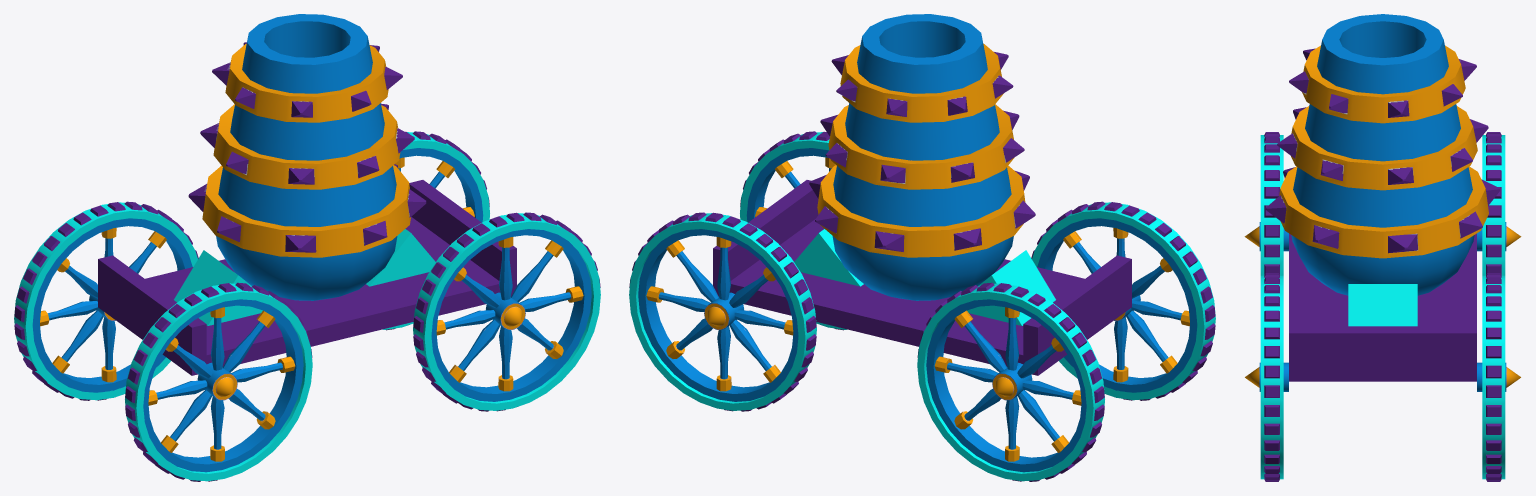
The model's file is Gun03.fbx.
3 renders of one model, left to right at view 1: azimuth 30°, elevation 25°; view 2: azimuth 150°, elevation 25°; view 3: azimuth 270°, elevation 25°, orthographic.
Visible parts, largest first — view 1: Cylinder.033, Cylinder.035, Cylinder.019, Plane.008, Plane.009, Cylinder.038; view 2: Cylinder.033, Cylinder.035, Cylinder.019, Plane.008, Plane.009, Cylinder.038; view 3: Cylinder.033, Cylinder.019, Plane.008, Plane.009, Cylinder.035, Cylinder.038.
Part boxes in pixels (x1,y1,x2,y2): Cylinder.033: (188, 14, 426, 300); Cylinder.035: (14, 201, 312, 481); Cylinder.019: (382, 131, 600, 411); Plane.008: (98, 217, 516, 375); Plane.009: (98, 180, 516, 357); Cylinder.038: (174, 229, 435, 325); Cylinder.033: (809, 14, 1035, 300); Cylinder.035: (917, 201, 1215, 481); Cylinder.019: (629, 131, 847, 411); Plane.008: (713, 219, 1131, 375); Plane.009: (713, 180, 1131, 357); Cylinder.038: (794, 229, 1055, 325); Cylinder.033: (1266, 14, 1499, 295); Cylinder.019: (1245, 273, 1520, 481); Plane.008: (1289, 233, 1476, 381); Plane.009: (1289, 326, 1476, 364); Cylinder.035: (1244, 132, 1521, 275); Cylinder.038: (1348, 284, 1417, 326).
Bounding box in the file's own units: 577 × 425 × 295.
Materials: 1 (1 with a texture image).
